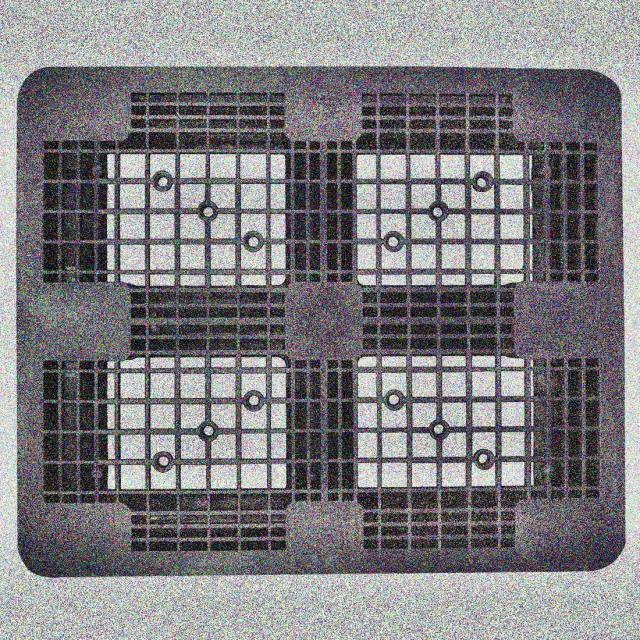non-igps: (9, 55, 632, 588)
